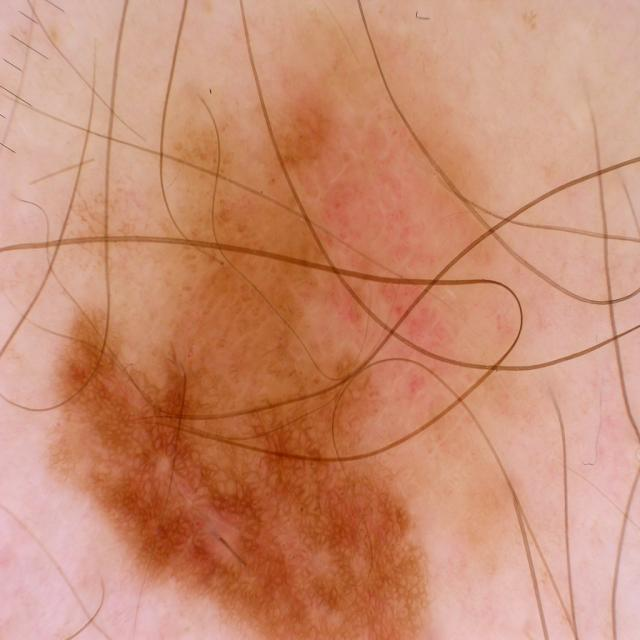Melanoma: (37, 17, 514, 640)
